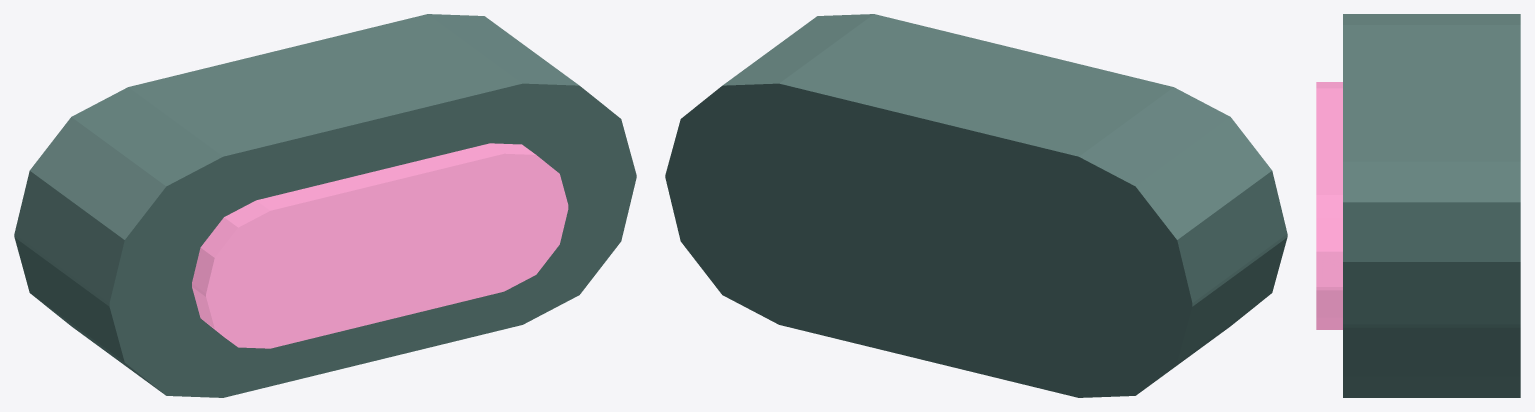
File: Signal_Lamp3D.gltf
3 views of the same model, side by side, from view 1: azimuth 30°, elevation 25°; view 2: azimuth 150°, elevation 25°; view 3: azimuth 270°, elevation 25° (orthographic). The views are drawn at different scales.
Visible parts, largest first — view 1: Signal_Lamp3D_baked; view 2: Signal_Lamp3D_baked; view 3: Signal_Lamp3D_baked.
Part boxes in pixels (box(x1,y1,x2,y2)): Signal_Lamp3D_baked: box(14, 14, 636, 397); Signal_Lamp3D_baked: box(665, 14, 1287, 397); Signal_Lamp3D_baked: box(1316, 14, 1520, 397).
Size of the model in its own units: 0.32 by 0.14 by 0.115.
